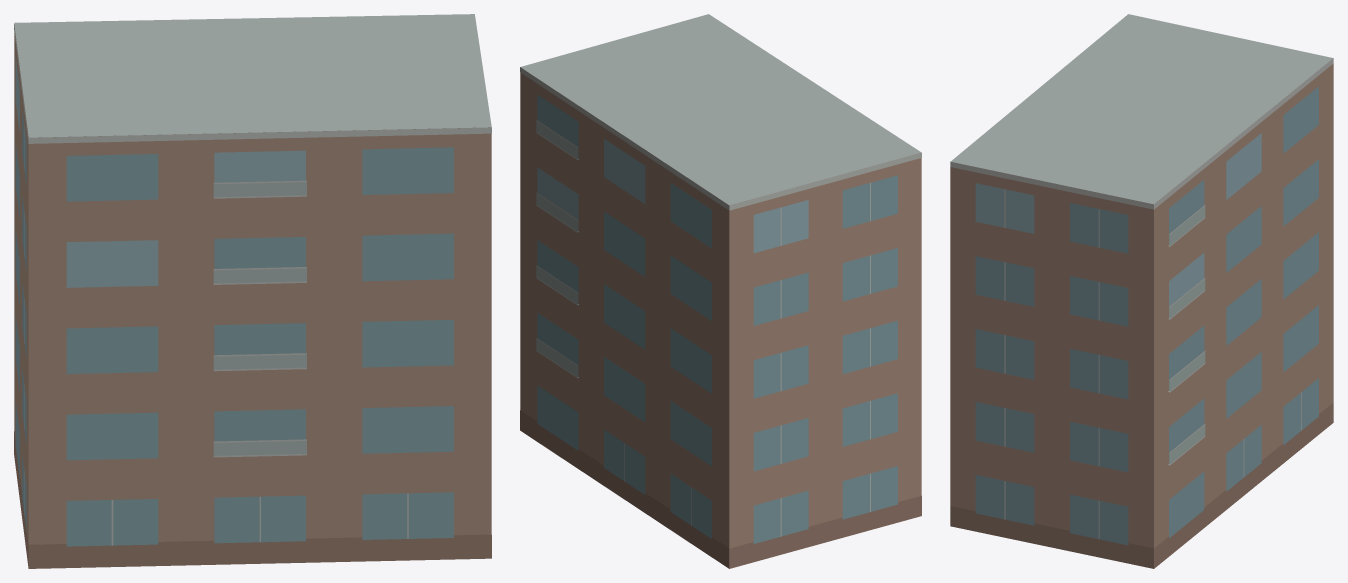
Rendered from survey-upis-32890157.glb.
3 renders of one model, left to right at view 1: azimuth 30°, elevation 25°; view 2: azimuth 150°, elevation 25°; view 3: azimuth 270°, elevation 25°, orthographic. The views are drawn at different scales.
Visible parts, largest first — view 1: survey-upis-32890157.tmp; view 2: survey-upis-32890157.tmp; view 3: survey-upis-32890157.tmp.
Part boxes in pixels (x1,y1,x2,y2): survey-upis-32890157.tmp: (14, 14, 491, 568); survey-upis-32890157.tmp: (520, 14, 921, 568); survey-upis-32890157.tmp: (950, 14, 1333, 568).
Bounding box in the file's own units: 18.82 × 16.8 × 16.01.
